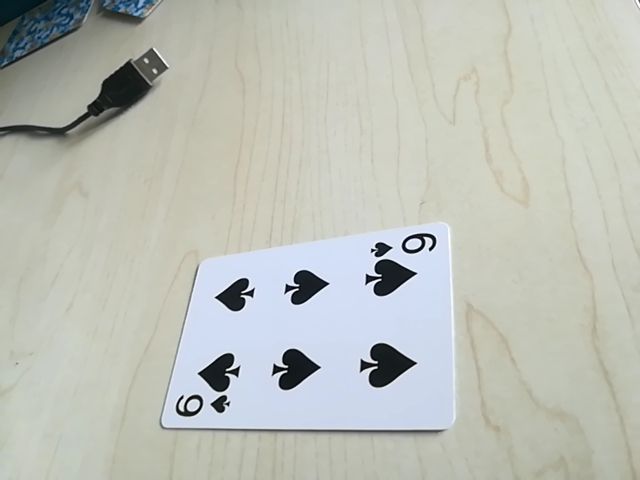ht 6: (370, 227, 444, 260), (164, 391, 233, 425)
